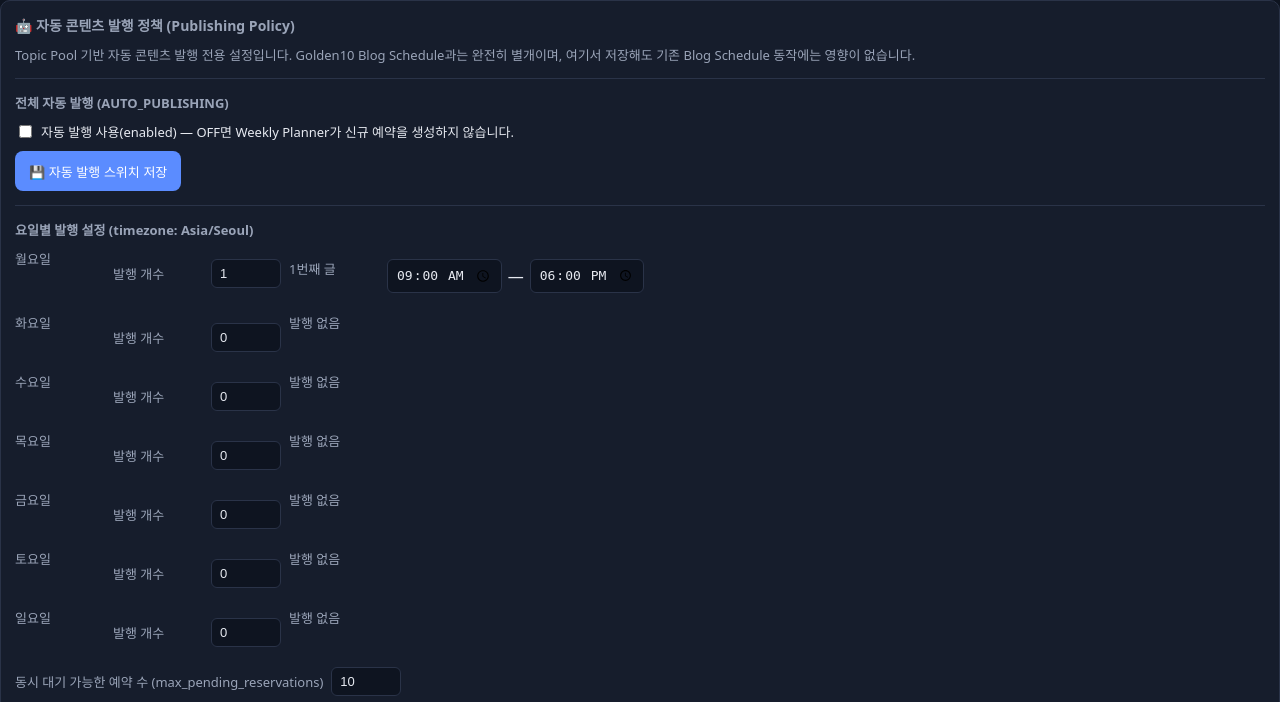
Test: PublishingPolicyPanel — per-post time_ranges (핵심 요구사항) › decreasing count removes the extra time_range rows (not just hides them)
The width and height of the screenshot is (1280, 702).
Expected: the time field named "pp-mon-0-start" is shown, [387,259,502,293]
Step 1. Replace the text in the number field labelled "발행 개수" in the row of "번째 글" with "0" → point(246, 274), box [211,259,281,288]
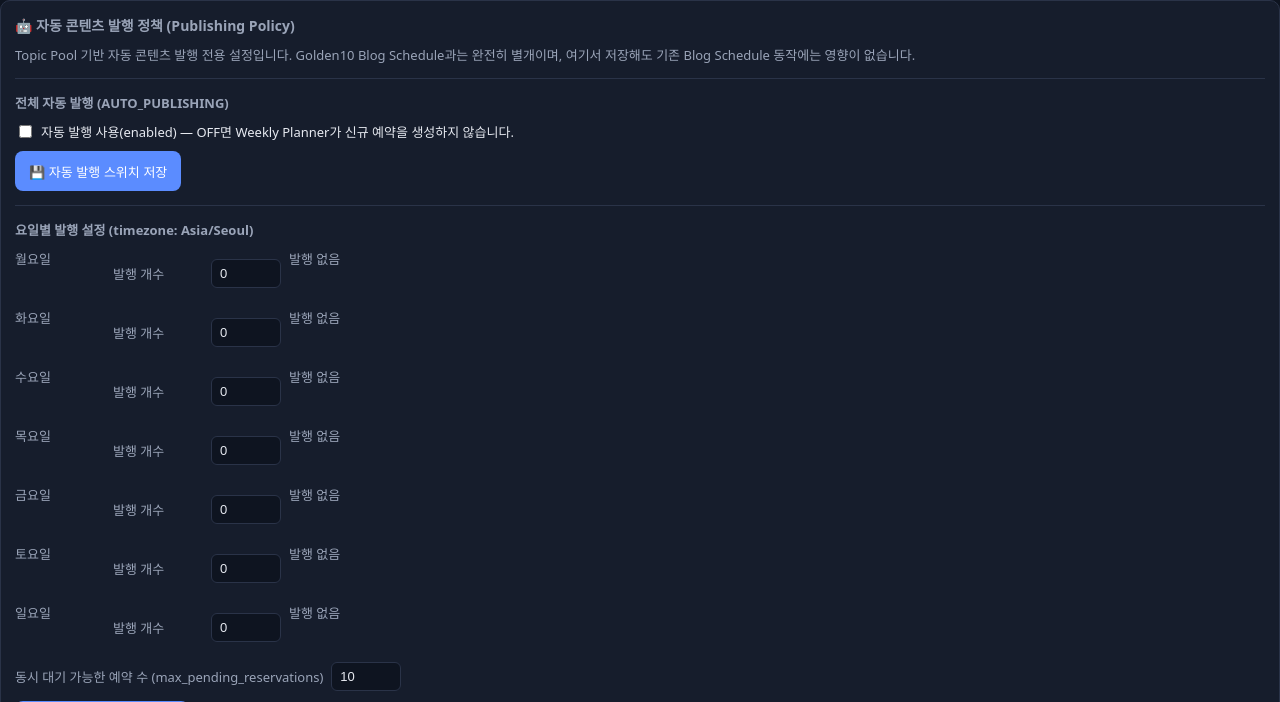
Expected: the time field labelled "pp-mon-0-start" is gone
Expected: the text "발행 없음" in the row of "월요일" is shown, [289,250,340,268]
